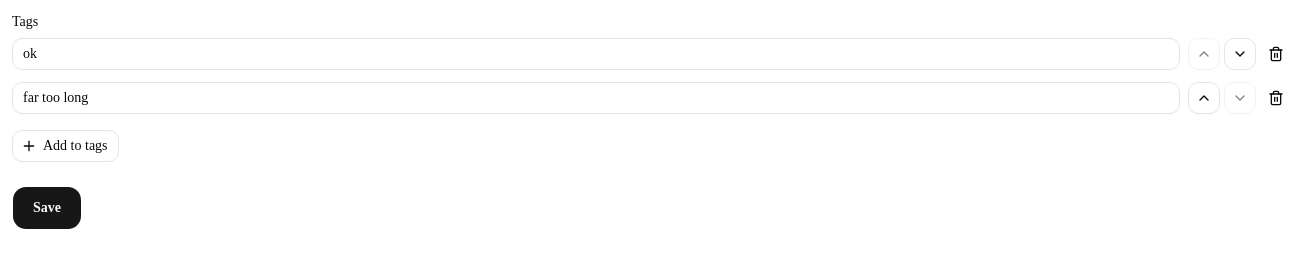
Scenario: SchemaForm › shows the error of a list item that fails validation
Click the button "Save".
click(47, 208)  # box left=12, top=186, right=82, bottom=230
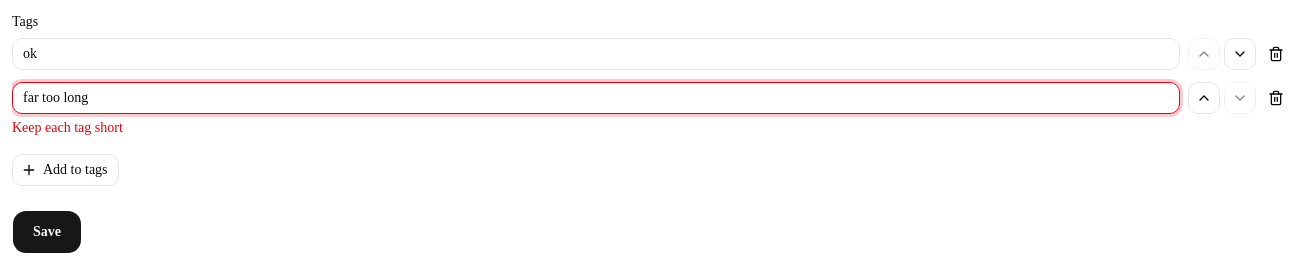
Now the text "Keep each tag short" is shown, box left=12, top=120, right=123, bottom=135
